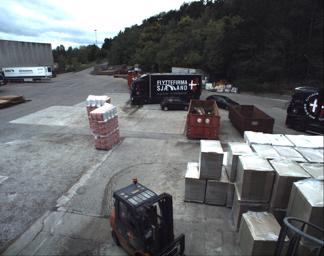rockwool_batts: (91, 102, 118, 148), (85, 94, 109, 122)
